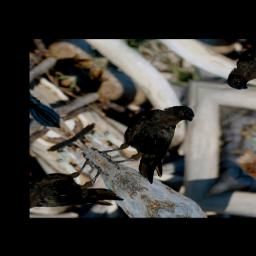Crow: (84, 92, 230, 191)
